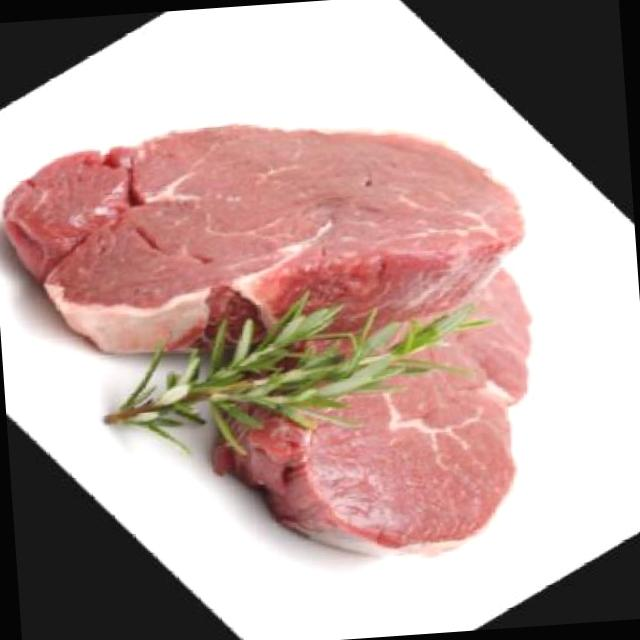beef: (0, 0, 583, 473), (145, 226, 640, 625)
